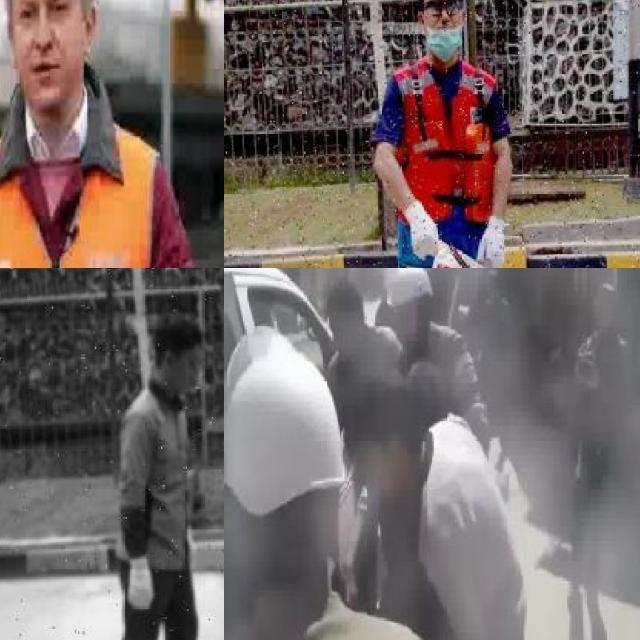apron: (404, 200, 441, 262), (125, 546, 158, 614), (473, 214, 506, 268)
